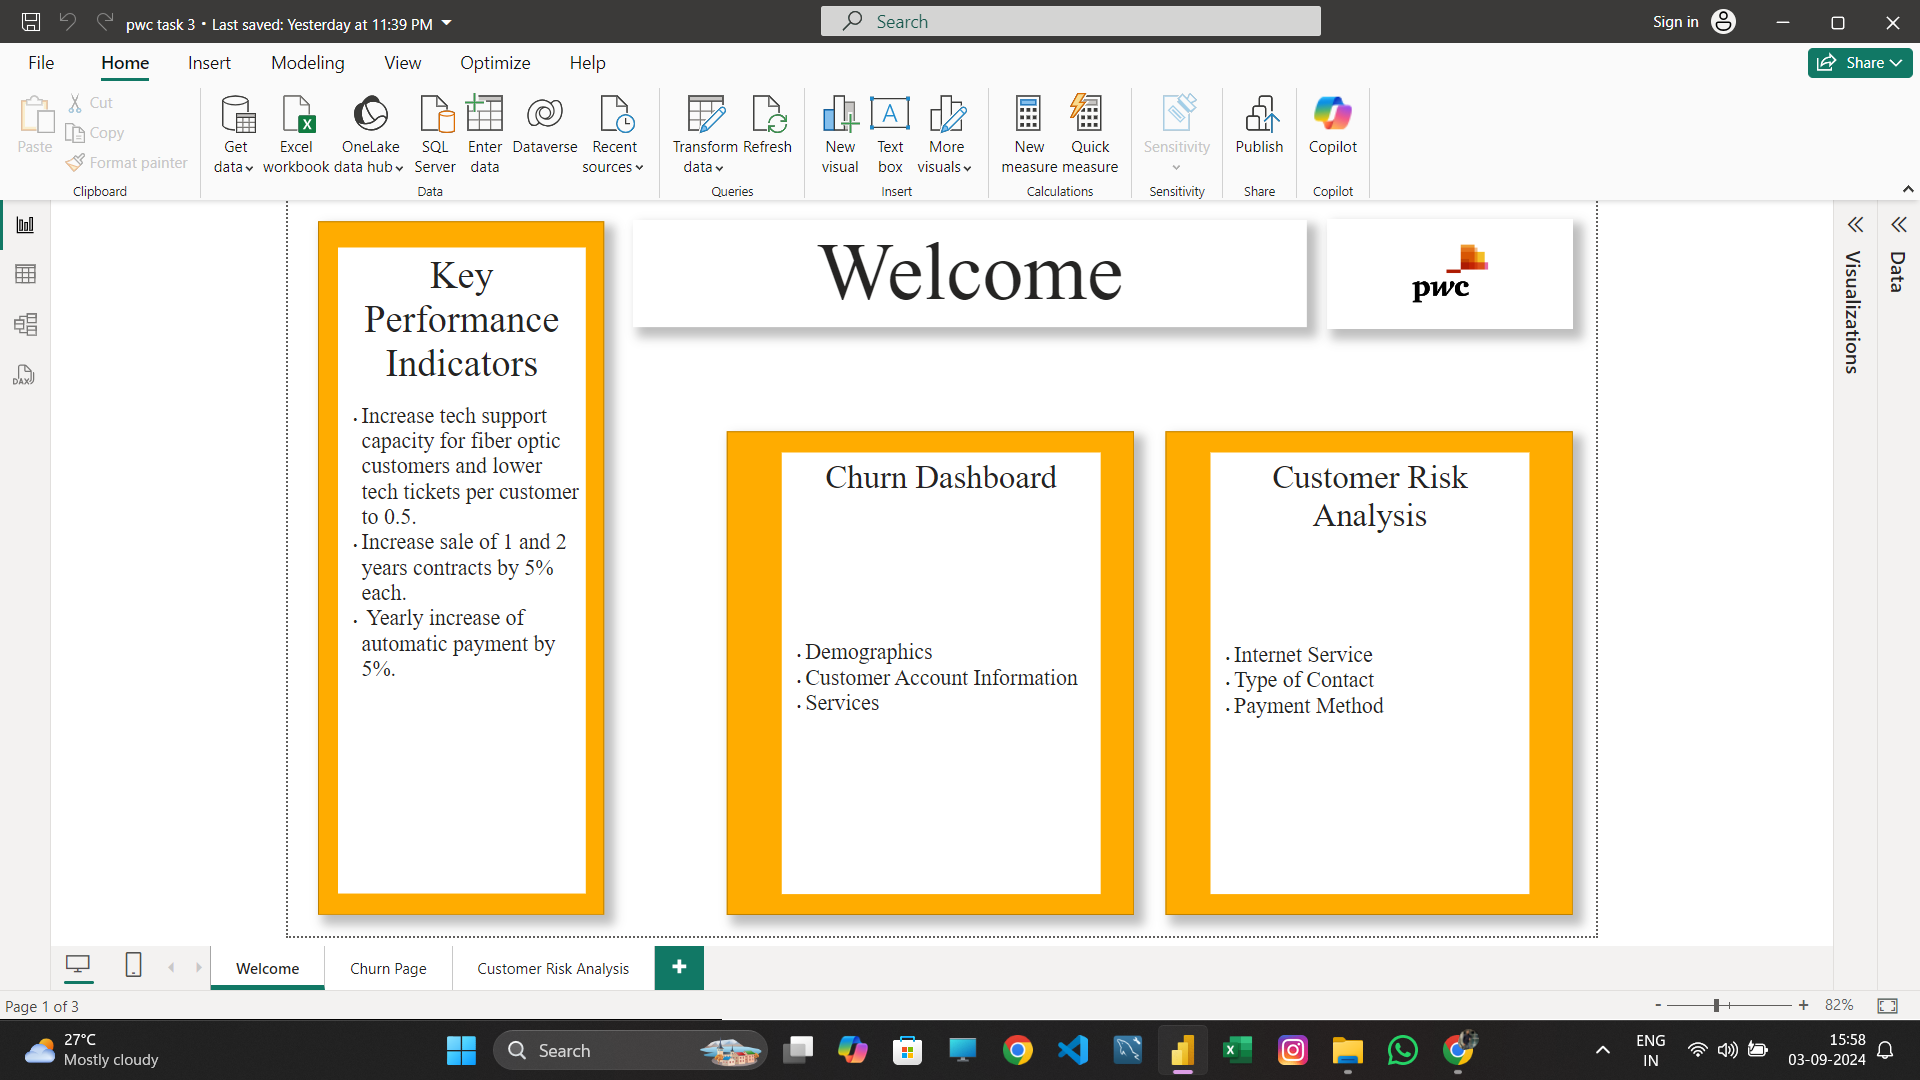

This screenshot's page, from the dashboard's own definition file:
{"tool":"powerbi","page":{"name":"Welcome","canvas":[1280,720],"ordinal":0},"visuals":[{"type":"shape","box":[29.3,20.8,280,678.7],"z":0},{"type":"shape","box":[429.2,226.2,398.6,473.2],"z":1000},{"type":"shape","box":[858.4,226.2,398.6,473.2],"z":2000},{"type":"textbox","box":[337.5,19.6,659.1,105.2],"z":3000},{"type":"textbox","box":[483,247,311.8,431.7],"z":4000},{"type":"textbox","box":[902.5,247,311.8,431.7],"z":5000},{"type":"textbox","box":[48.9,46.5,242.1,632.2],"z":6000},{"type":"image","box":[1016.2,18.3,240.9,107.6],"z":6001}]}

Visuals, with their boxes on the page's 1280x720 design canvas (x1, y1, x2, y2). These are canvas units, not pixel positions in the 1920x1080 screenshot, which may show the page scaled, cropped or inside an application window:
shape: (29,21,309,700)
shape: (429,226,828,699)
shape: (858,226,1257,699)
textbox: (338,20,997,125)
textbox: (483,247,795,679)
textbox: (902,247,1214,679)
textbox: (49,46,291,679)
image: (1016,18,1257,126)
